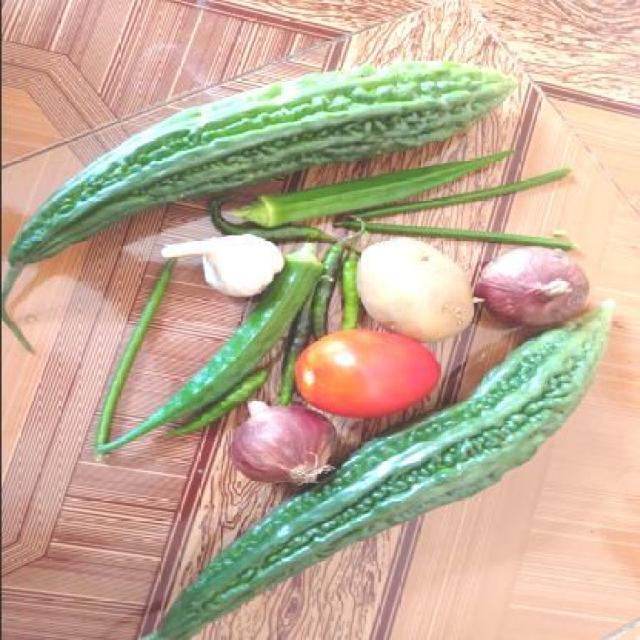Bitter melon: (94, 71, 506, 180)
Garlic: (152, 232, 285, 297)
Green Chili: (312, 238, 358, 337)
Lady finger: (238, 174, 506, 229)
Onion: (230, 397, 336, 486), (478, 243, 586, 323)
Potato: (360, 233, 477, 344)
Tomato: (294, 336, 436, 410)
